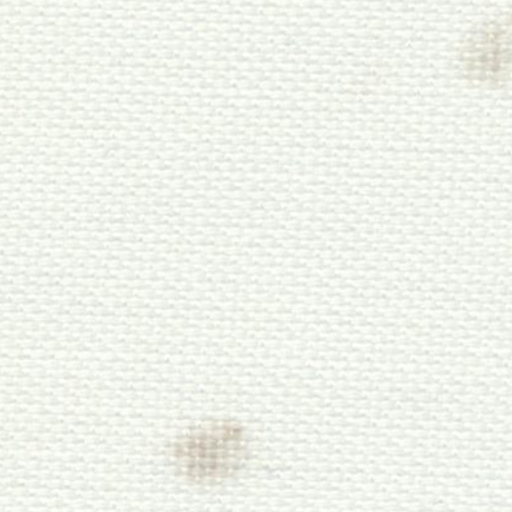WuZi: (152, 402, 268, 494), (444, 6, 505, 90)
